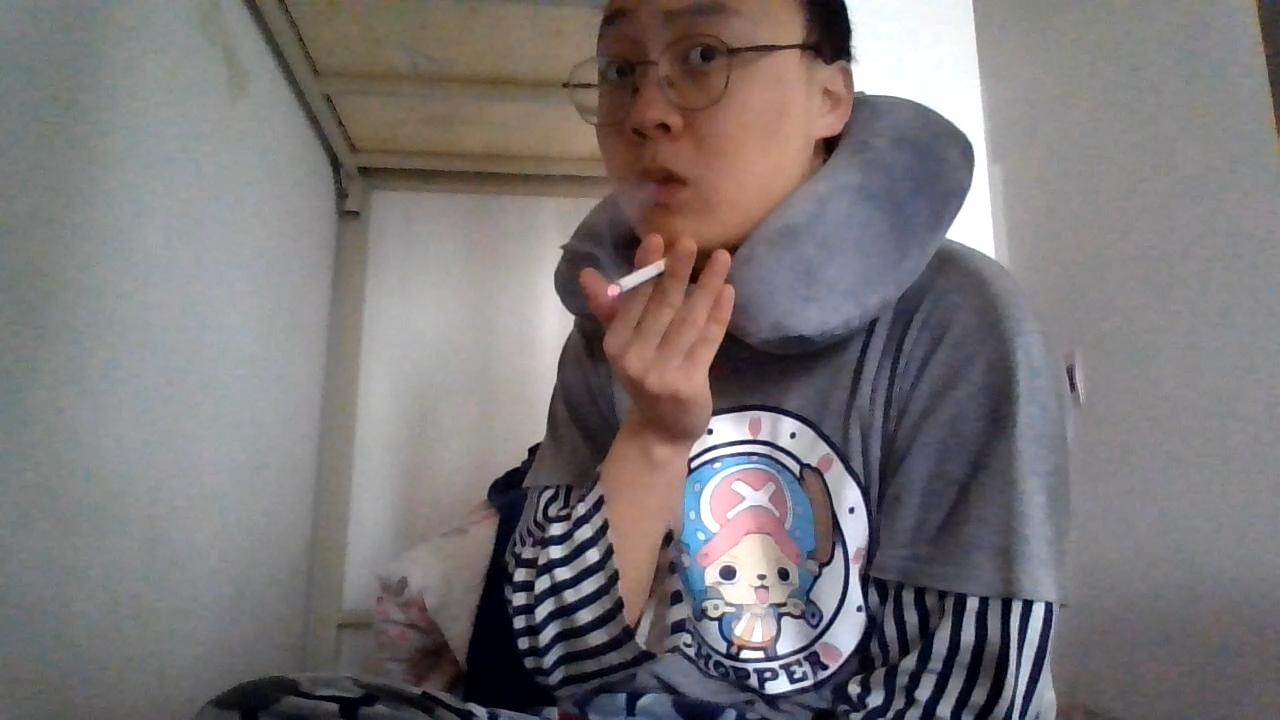yanwu: (555, 161, 650, 216)
